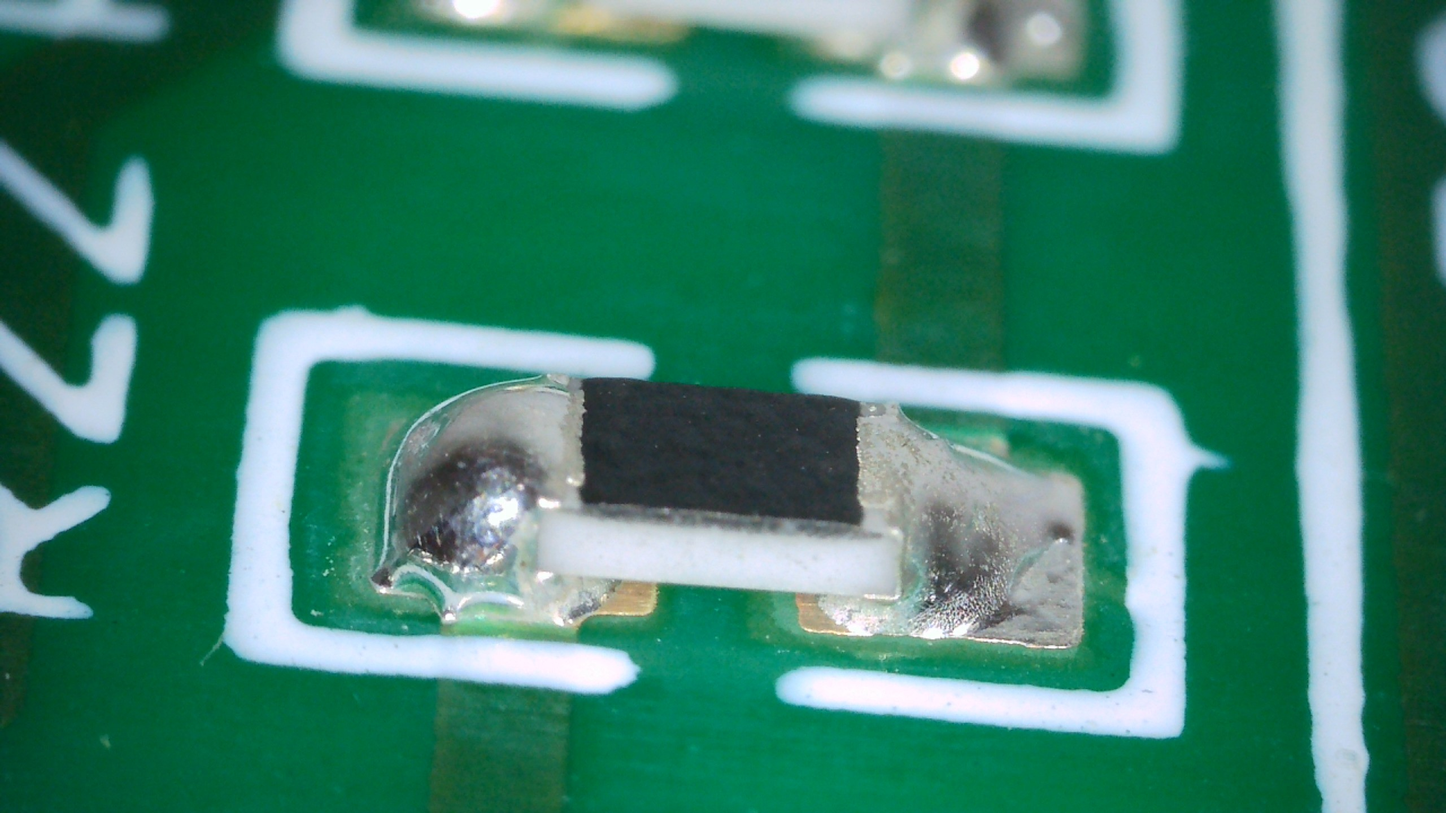NG: (377, 374, 621, 624)
OK: (816, 405, 1081, 651)
